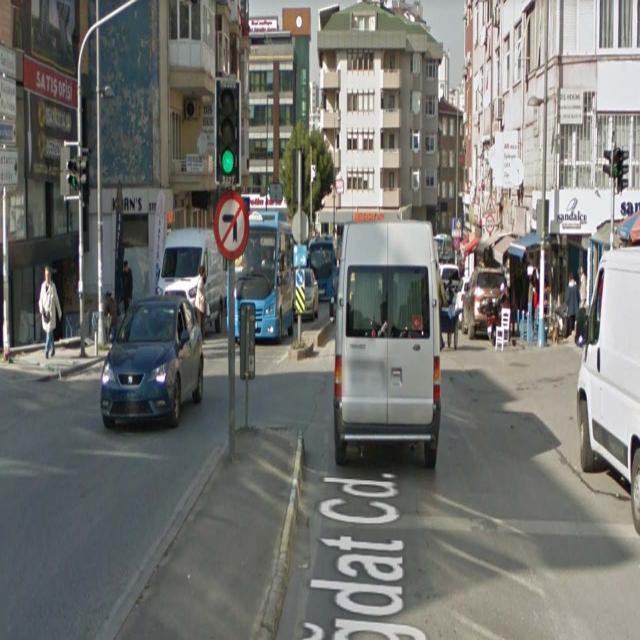soladonulmez: (214, 191, 250, 260)
yesil: (214, 78, 240, 186)
